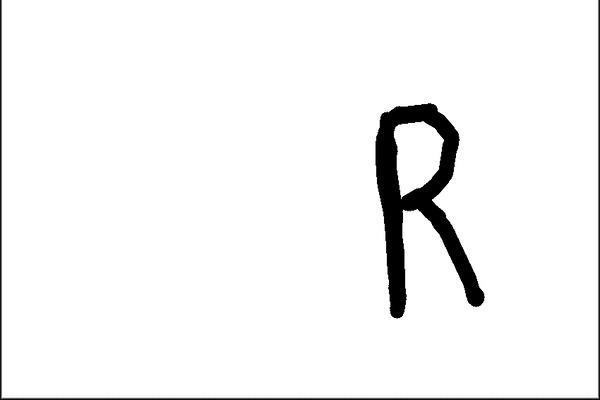R: (365, 93, 490, 324)
